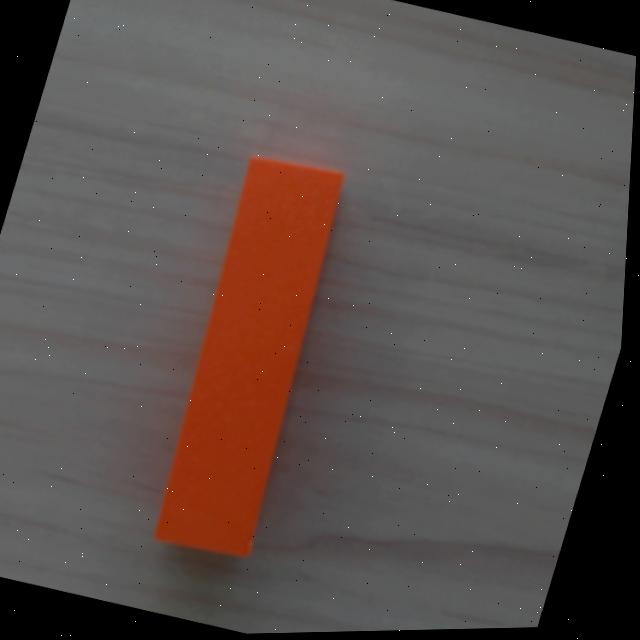Balok-Jingga-1002525: (153, 151, 345, 563)
